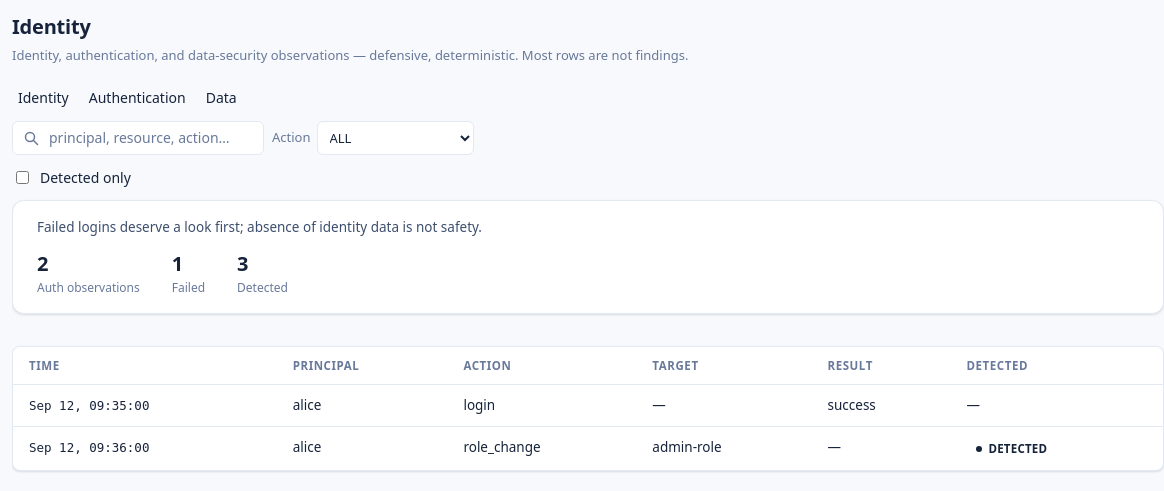
it: Identity › switches to authentication tab and filters
The width and height of the screenshot is (1164, 491).
Click the button "Authentication": (137, 97) [83, 86, 192, 108]
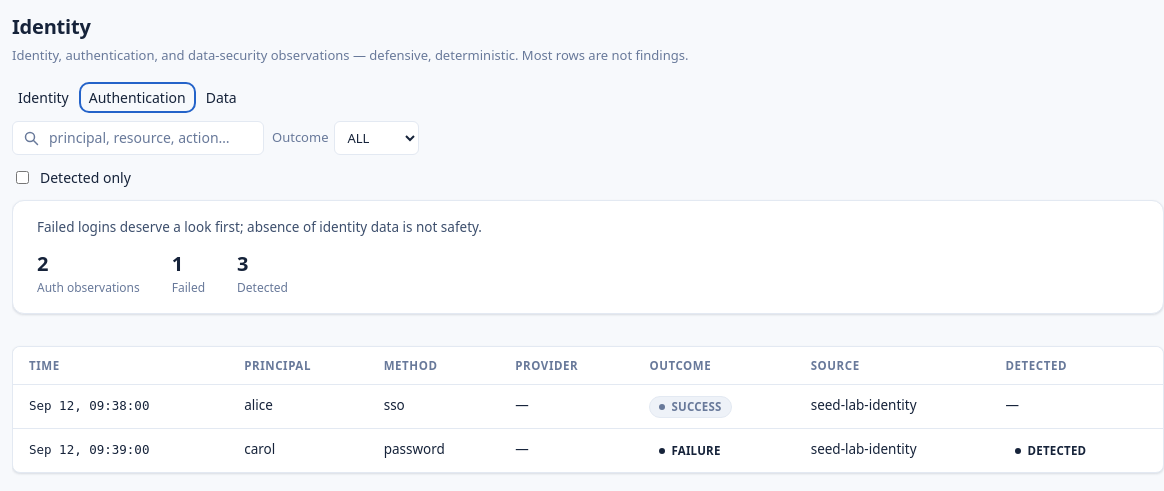
Check: the text "carol" is shown, box [228, 428, 368, 472]
Select "failure" in the dropdown labelled "Outcome": (377, 138) [334, 120, 420, 154]
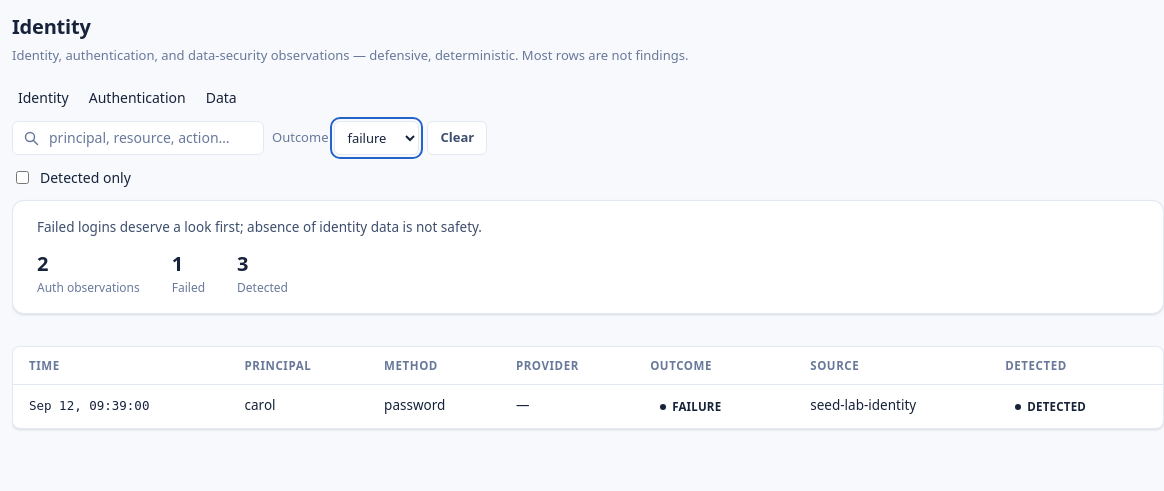
Check: the text "carol" is shown, box [228, 384, 368, 428]
Check: the text "alice" is gone
